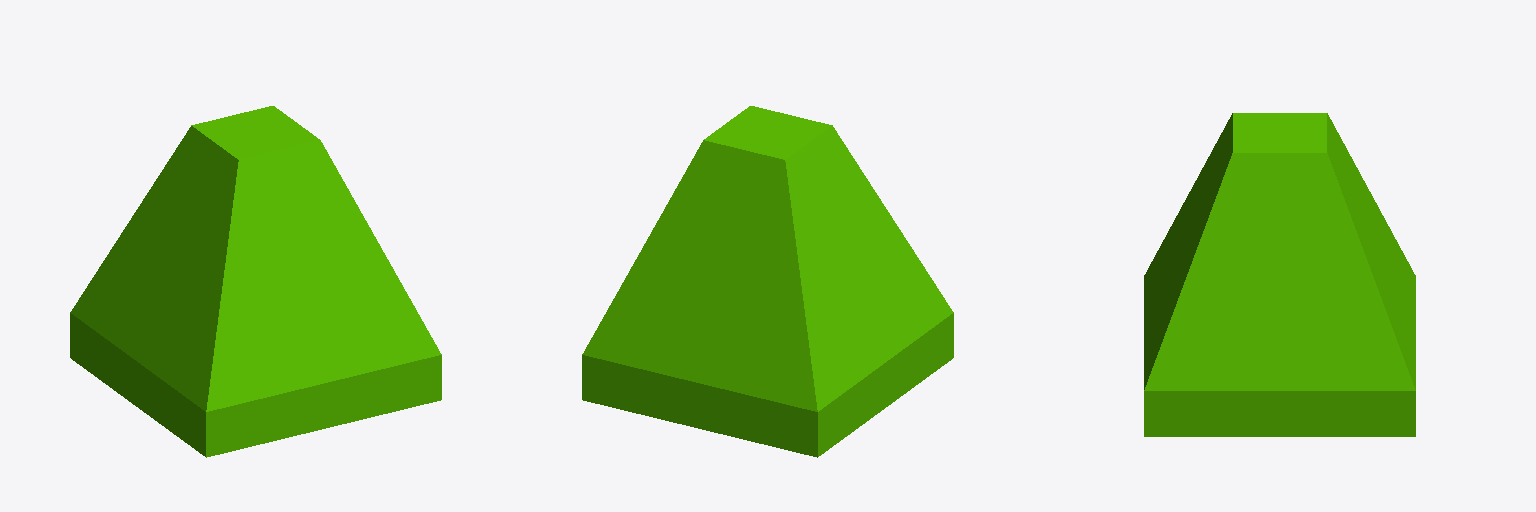
File: marine.obj
3 views of the same model, side by side, from view 1: azimuth 30°, elevation 25°; view 2: azimuth 150°, elevation 25°; view 3: azimuth 270°, elevation 25° (orthographic).
Visible parts, largest first — view 1: Cube_Cube.002; view 2: Cube_Cube.002; view 3: Cube_Cube.002.
Boxes of the visible parts, <box> form: Cube_Cube.002: <box>70,106,441,457</box>; Cube_Cube.002: <box>582,106,953,457</box>; Cube_Cube.002: <box>1144,113,1415,436</box>.
Bounding box in the file's own units: 2 × 2 × 2.